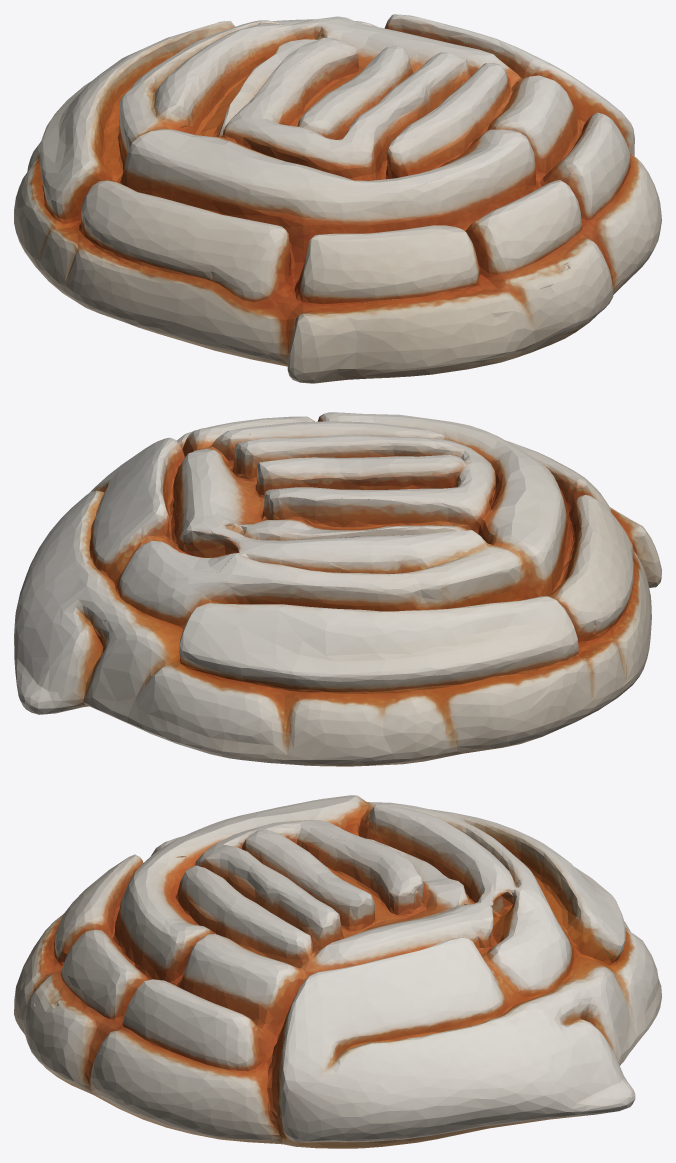
Rendered from concha.fbx.
3 views of the same model, one above another, from view 1: azimuth 30°, elevation 25°; view 2: azimuth 150°, elevation 25°; view 3: azimuth 270°, elevation 25° (orthographic). The views are drawn at different scales.
Parts seen in each view (by area): view 1: CONCHA; view 2: CONCHA; view 3: CONCHA.
Part boxes in pixels (bbox=[...]): CONCHA: bbox=[14, 14, 661, 383]; CONCHA: bbox=[14, 412, 661, 766]; CONCHA: bbox=[14, 795, 661, 1148].
Bounding box in the file's own units: 44.39 × 13.55 × 45.94.
